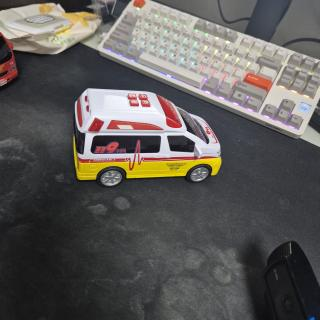Ambulance: (74, 89, 221, 187), (0, 33, 17, 86)
